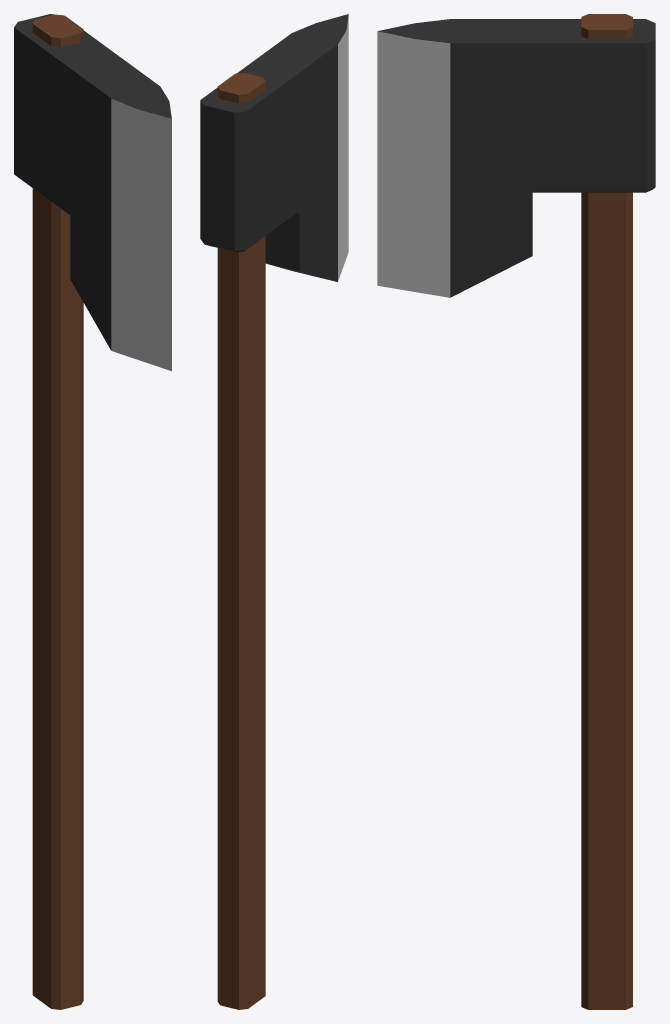
The model's file is hatchet.fbx.
3 renders of one model, left to right at view 1: azimuth 30°, elevation 25°; view 2: azimuth 150°, elevation 25°; view 3: azimuth 270°, elevation 25°, orthographic. The views are drawn at different scales.
Parts seen in each view (by area): view 1: Hatchet; view 2: Hatchet; view 3: Hatchet.
Part boxes in pixels (box(x1,y1,x2,y2)): Hatchet: box(14, 14, 171, 1009); Hatchet: box(200, 14, 348, 1009); Hatchet: box(377, 14, 655, 1009).
Bounding box in the file's own units: 0.0874 × 1.65 × 0.4252.
